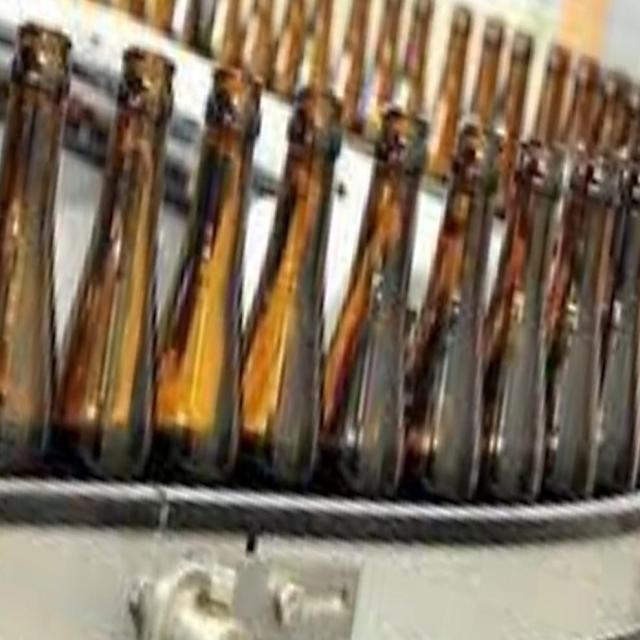bottle: (49, 43, 177, 482), (333, 73, 436, 559), (149, 62, 263, 486), (416, 77, 512, 536), (257, 75, 350, 516), (487, 130, 575, 556)
food: (2, 5, 637, 510)
